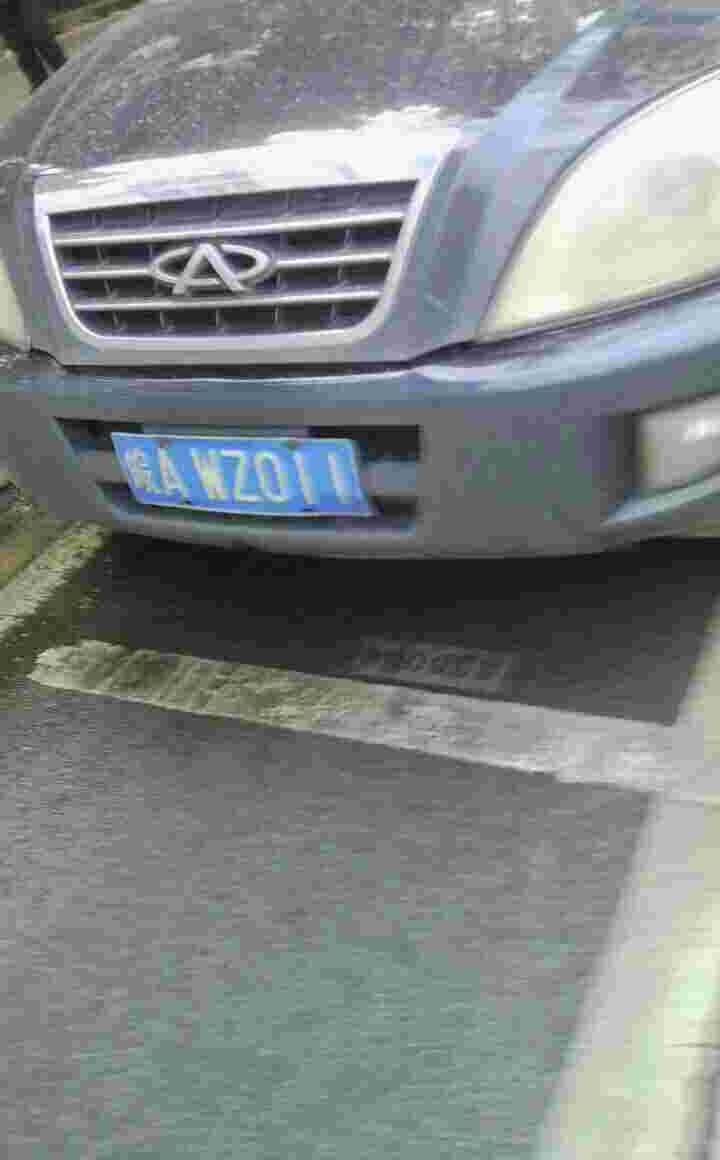plate: (104, 426, 376, 523)
